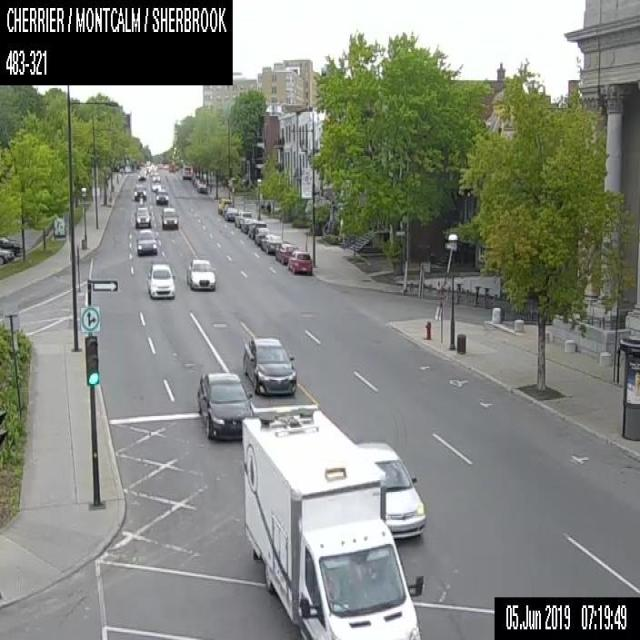bus: (181, 163, 192, 178)
vehicle: (241, 403, 423, 639), (354, 439, 424, 538), (196, 372, 253, 441), (243, 337, 296, 395), (146, 262, 174, 298), (187, 258, 215, 290), (287, 249, 313, 275), (136, 228, 156, 255), (274, 242, 297, 264), (261, 233, 282, 253), (0, 235, 20, 254), (160, 207, 178, 227), (134, 206, 151, 227), (247, 221, 266, 238), (253, 227, 270, 244), (234, 211, 251, 226), (133, 184, 147, 201), (239, 217, 255, 231), (217, 198, 231, 214), (0, 248, 14, 264), (155, 189, 168, 204), (224, 207, 237, 220), (197, 182, 207, 193), (138, 170, 146, 179), (151, 182, 160, 190), (152, 172, 159, 181)
